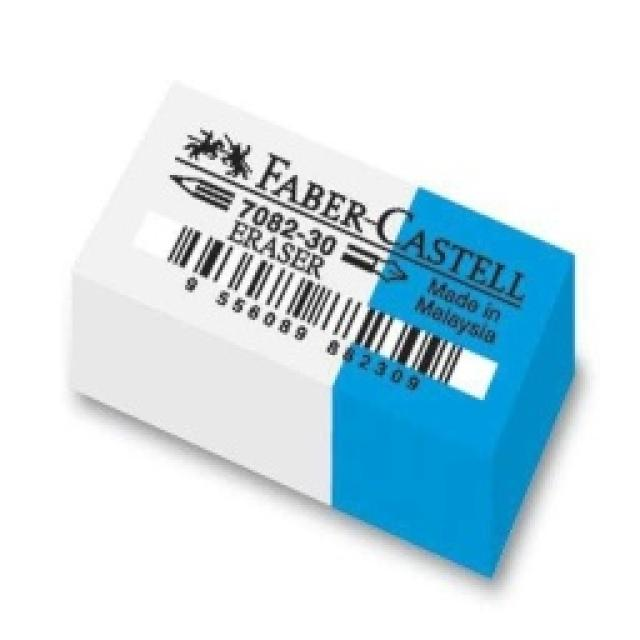Silgi: (68, 78, 578, 579)
